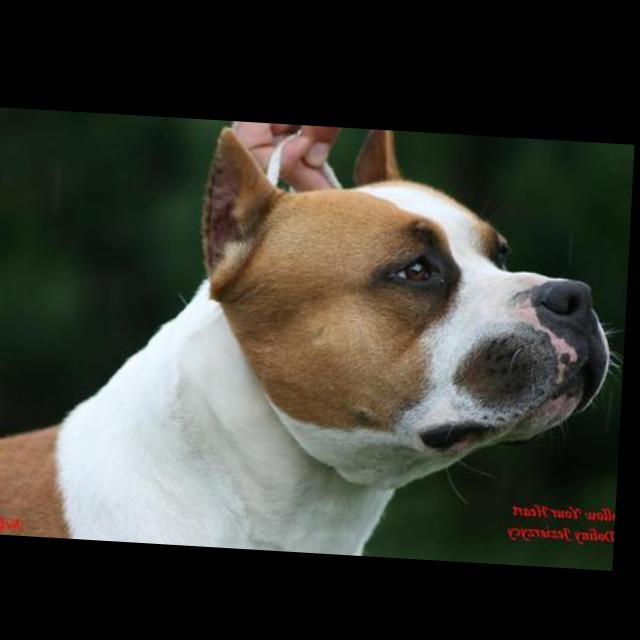amstaff: (1, 108, 637, 564)
